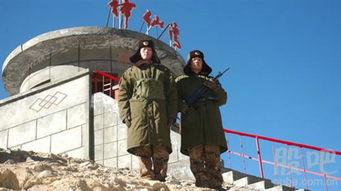up: (121, 38, 179, 176), (178, 45, 230, 188)
